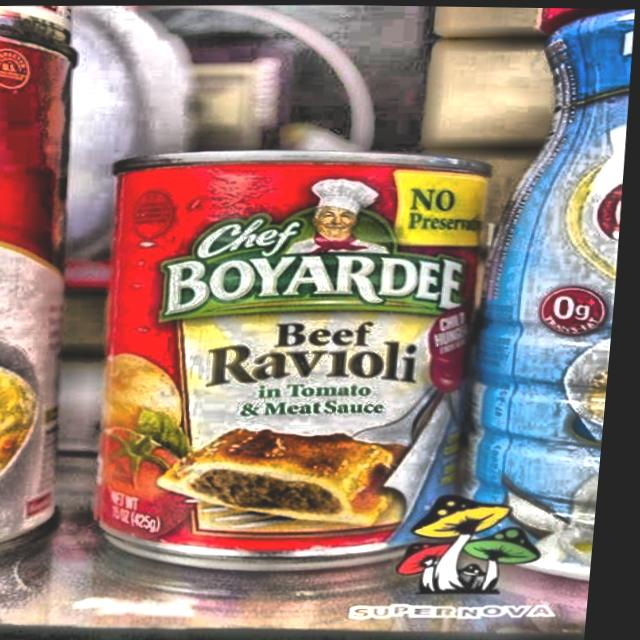Cans: (62, 126, 539, 590)
